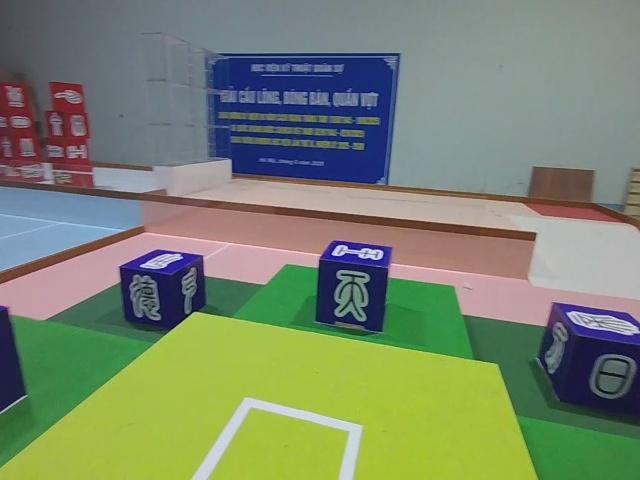R2 Fake Blue: (535, 305, 638, 428), (315, 240, 393, 334), (117, 249, 205, 332)
